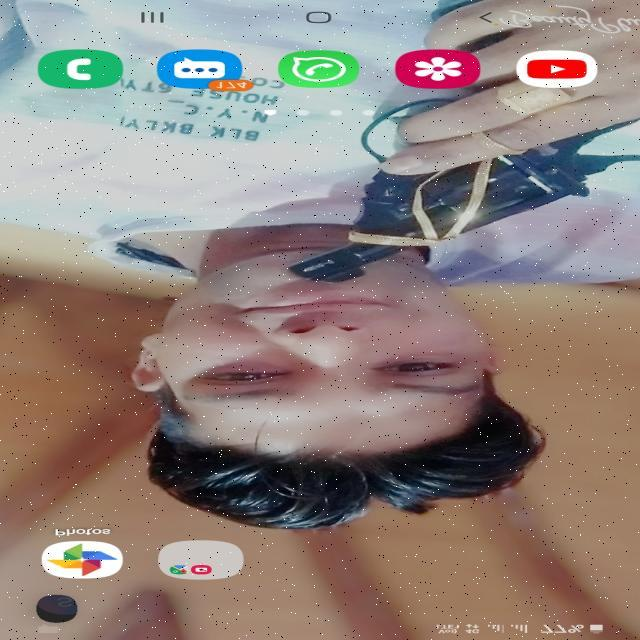gun: (272, 98, 610, 294)
